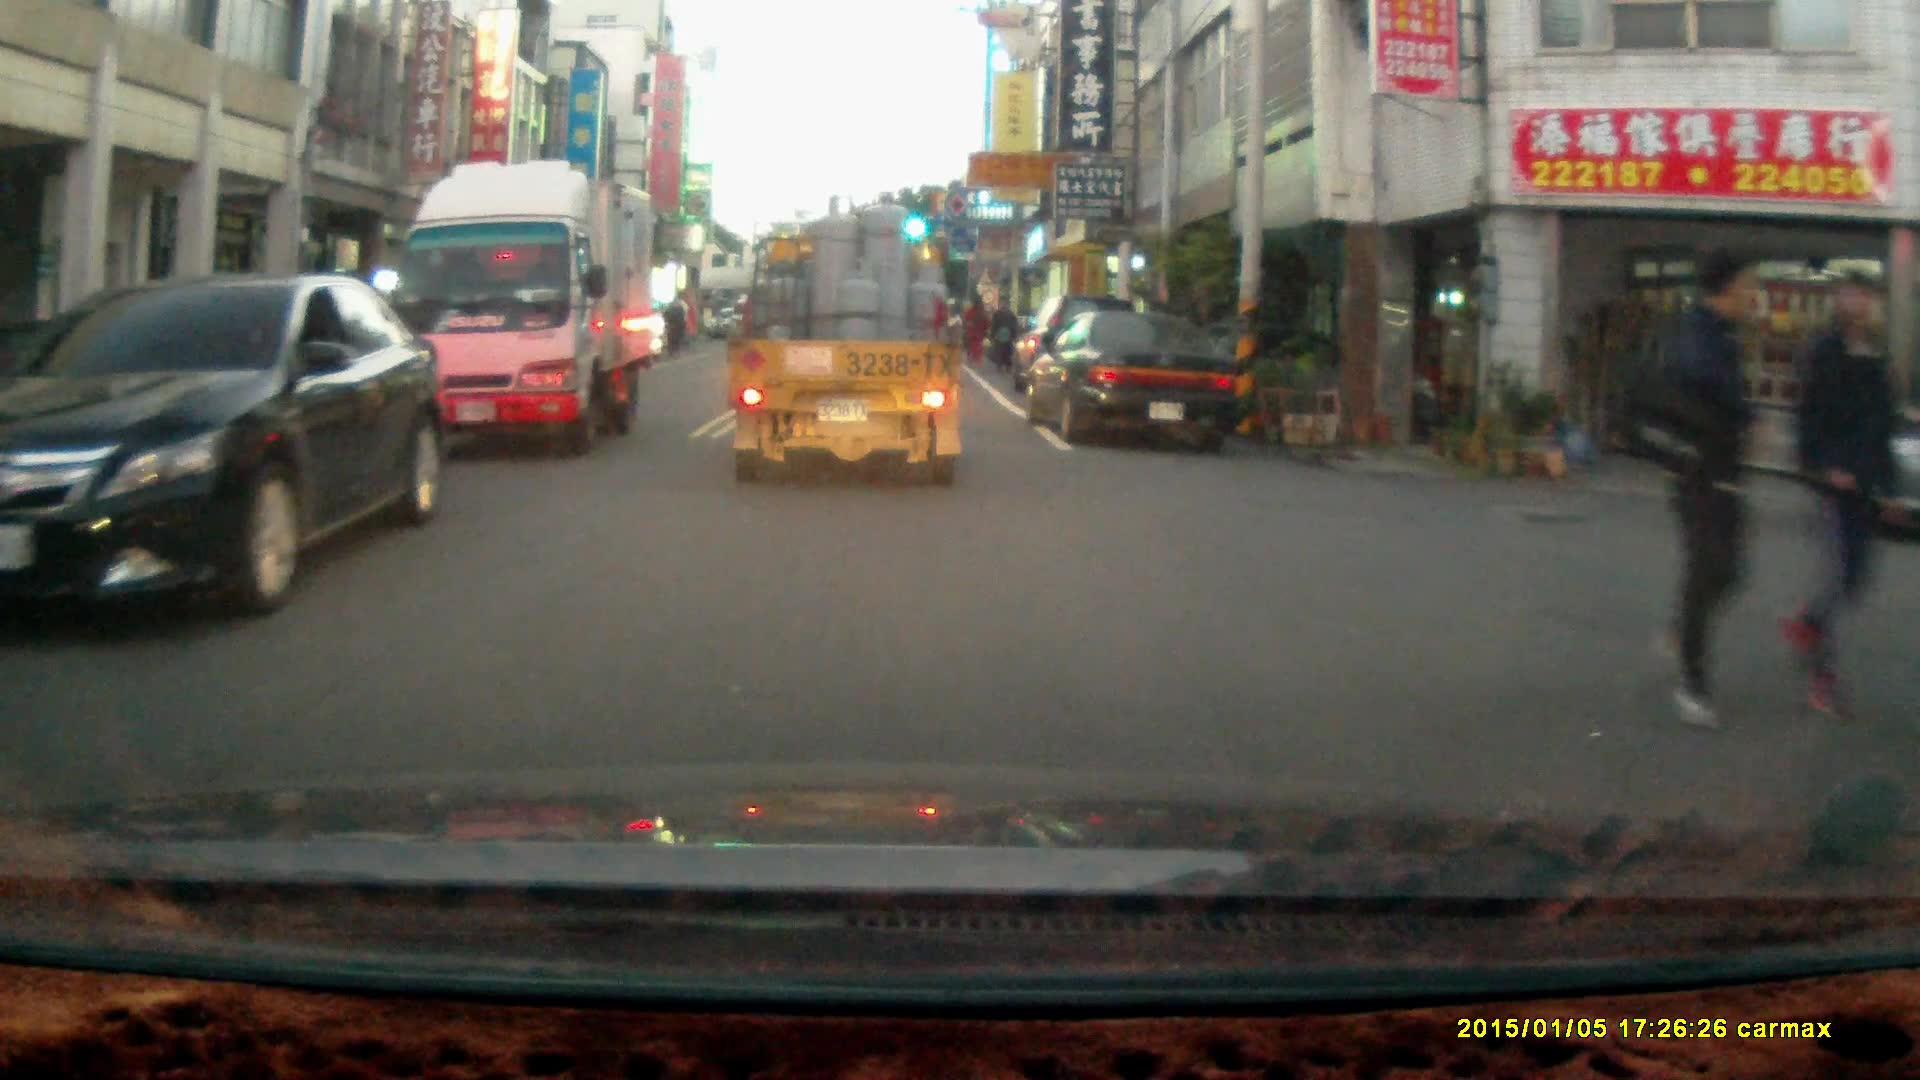pedestrian: (1644, 249, 1763, 733), (1779, 270, 1899, 725), (988, 292, 1018, 376), (961, 292, 990, 365), (660, 297, 688, 358)
vehicle: (2, 266, 450, 621), (387, 161, 657, 458), (731, 189, 965, 487), (1031, 311, 1243, 450)
